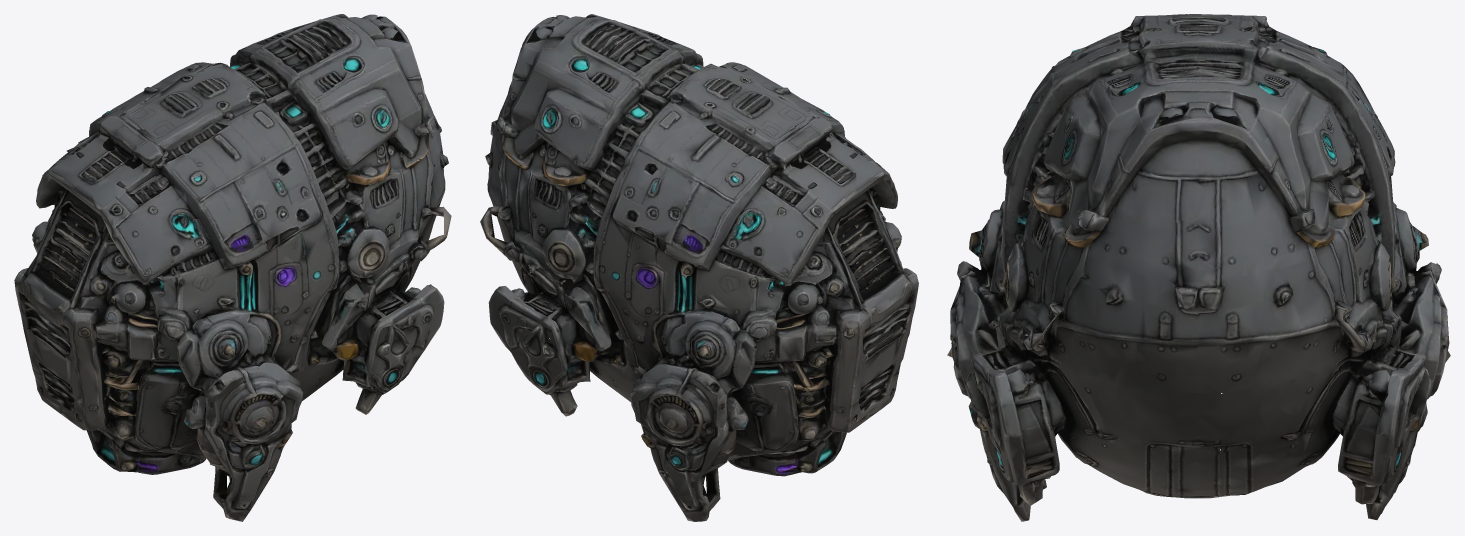
The model's file is enemy_destroyer.glb.
3 renders of one model, left to right at view 1: azimuth 30°, elevation 25°; view 2: azimuth 150°, elevation 25°; view 3: azimuth 270°, elevation 25°, orthographic. The views are drawn at different scales.
Visible parts, largest first — view 1: tripo_node_c168fcad-58e7-48f8-b004-b42705fe54e1; view 2: tripo_node_c168fcad-58e7-48f8-b004-b42705fe54e1; view 3: tripo_node_c168fcad-58e7-48f8-b004-b42705fe54e1.
Boxes of the visible parts, <box> form: tripo_node_c168fcad-58e7-48f8-b004-b42705fe54e1: <box>14,14,451,521</box>; tripo_node_c168fcad-58e7-48f8-b004-b42705fe54e1: <box>480,14,918,521</box>; tripo_node_c168fcad-58e7-48f8-b004-b42705fe54e1: <box>947,14,1450,521</box>.
Size of the model in its own units: 0.997 by 0.9812 by 0.8091.
1 material, 1 textured.
